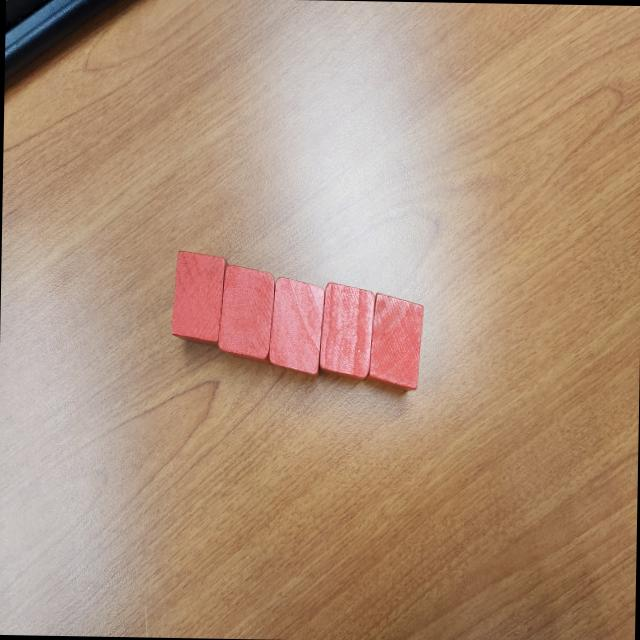red: (217, 263, 274, 366), (170, 250, 230, 346), (268, 276, 324, 375), (319, 282, 375, 381), (365, 293, 421, 390)
